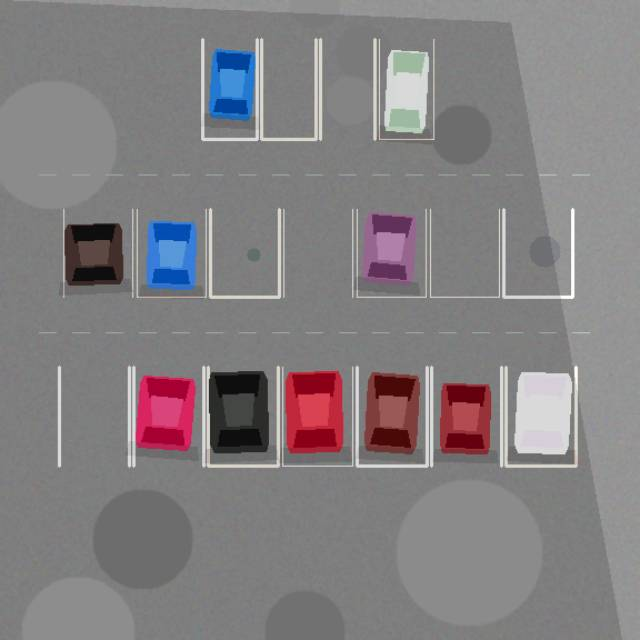space-empty: (59, 367, 129, 466), (210, 209, 279, 297), (283, 209, 352, 297), (430, 209, 499, 297), (503, 209, 572, 297), (261, 39, 316, 139), (320, 39, 374, 139)
space-occupied: (133, 367, 203, 466), (208, 367, 278, 466), (282, 367, 352, 466), (357, 367, 427, 466), (431, 367, 501, 466), (506, 367, 576, 466), (63, 209, 132, 297), (137, 209, 206, 297), (357, 209, 426, 297), (202, 39, 257, 139), (379, 39, 433, 139)
